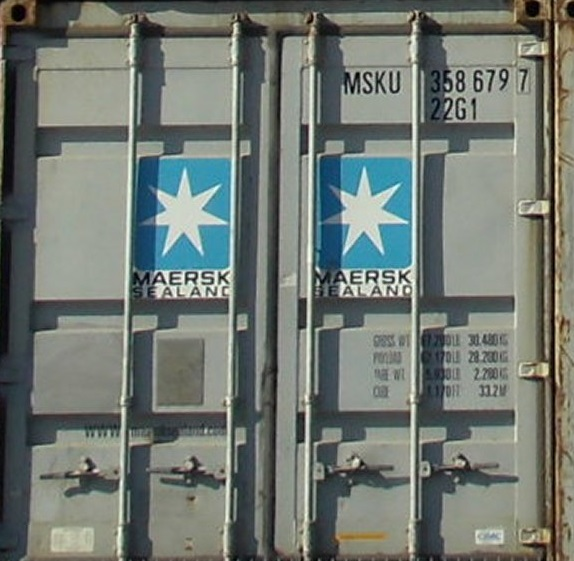container_door: (7, 6, 559, 561)
